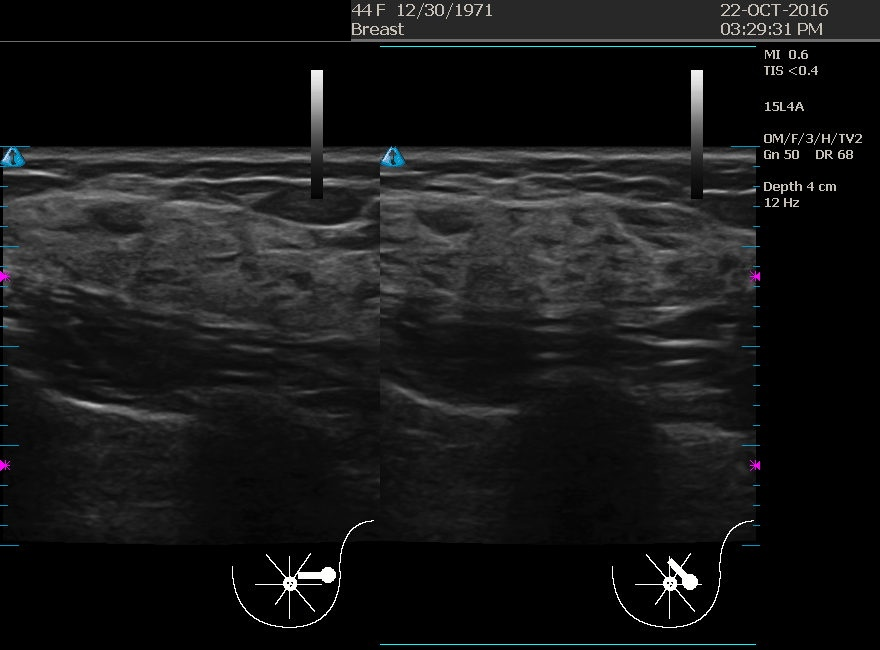BIRADS_2: (405, 191, 605, 392), (27, 192, 227, 392)
